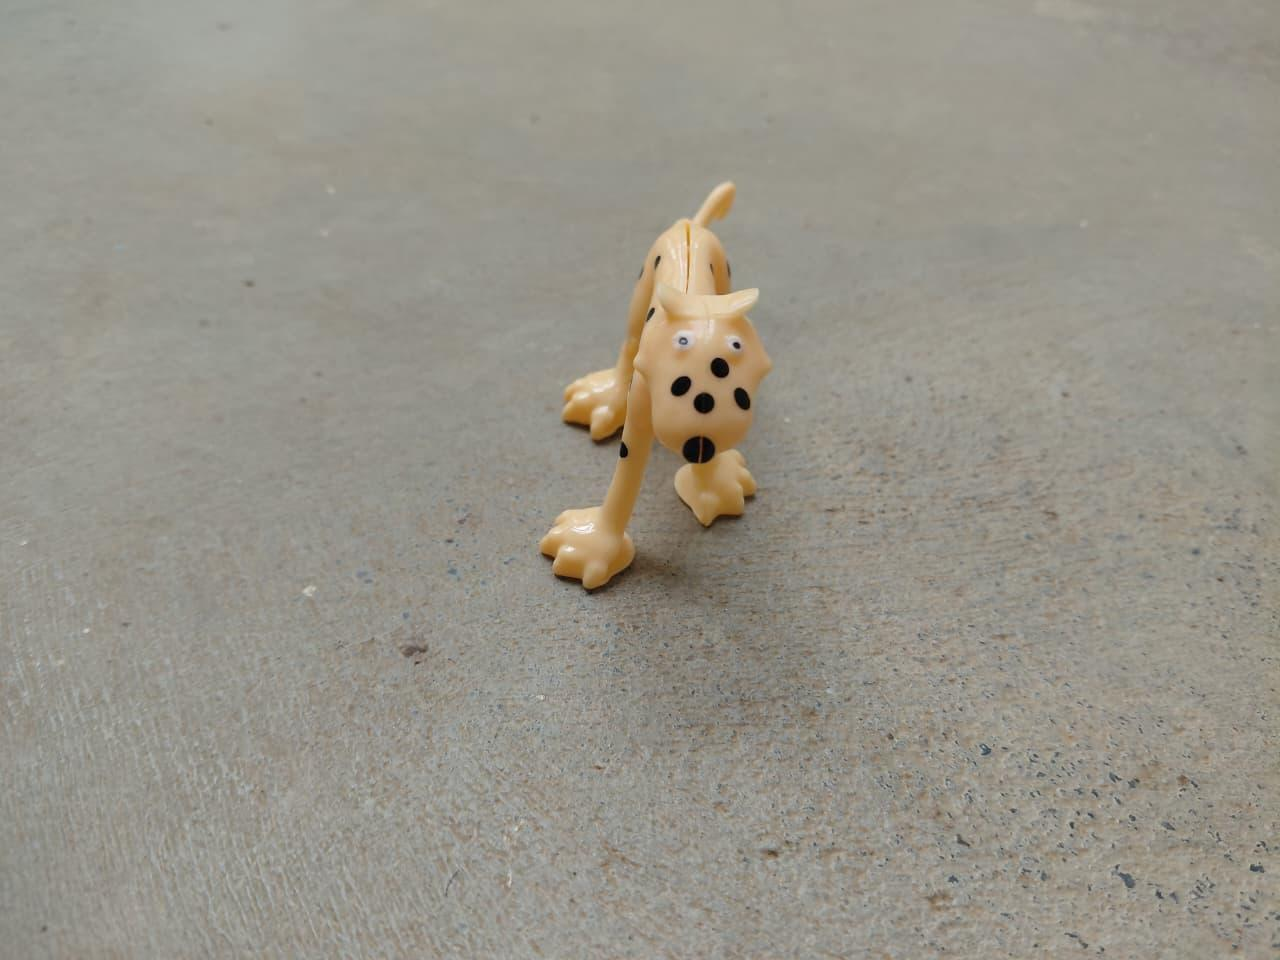cheetah: (538, 168, 774, 604)
